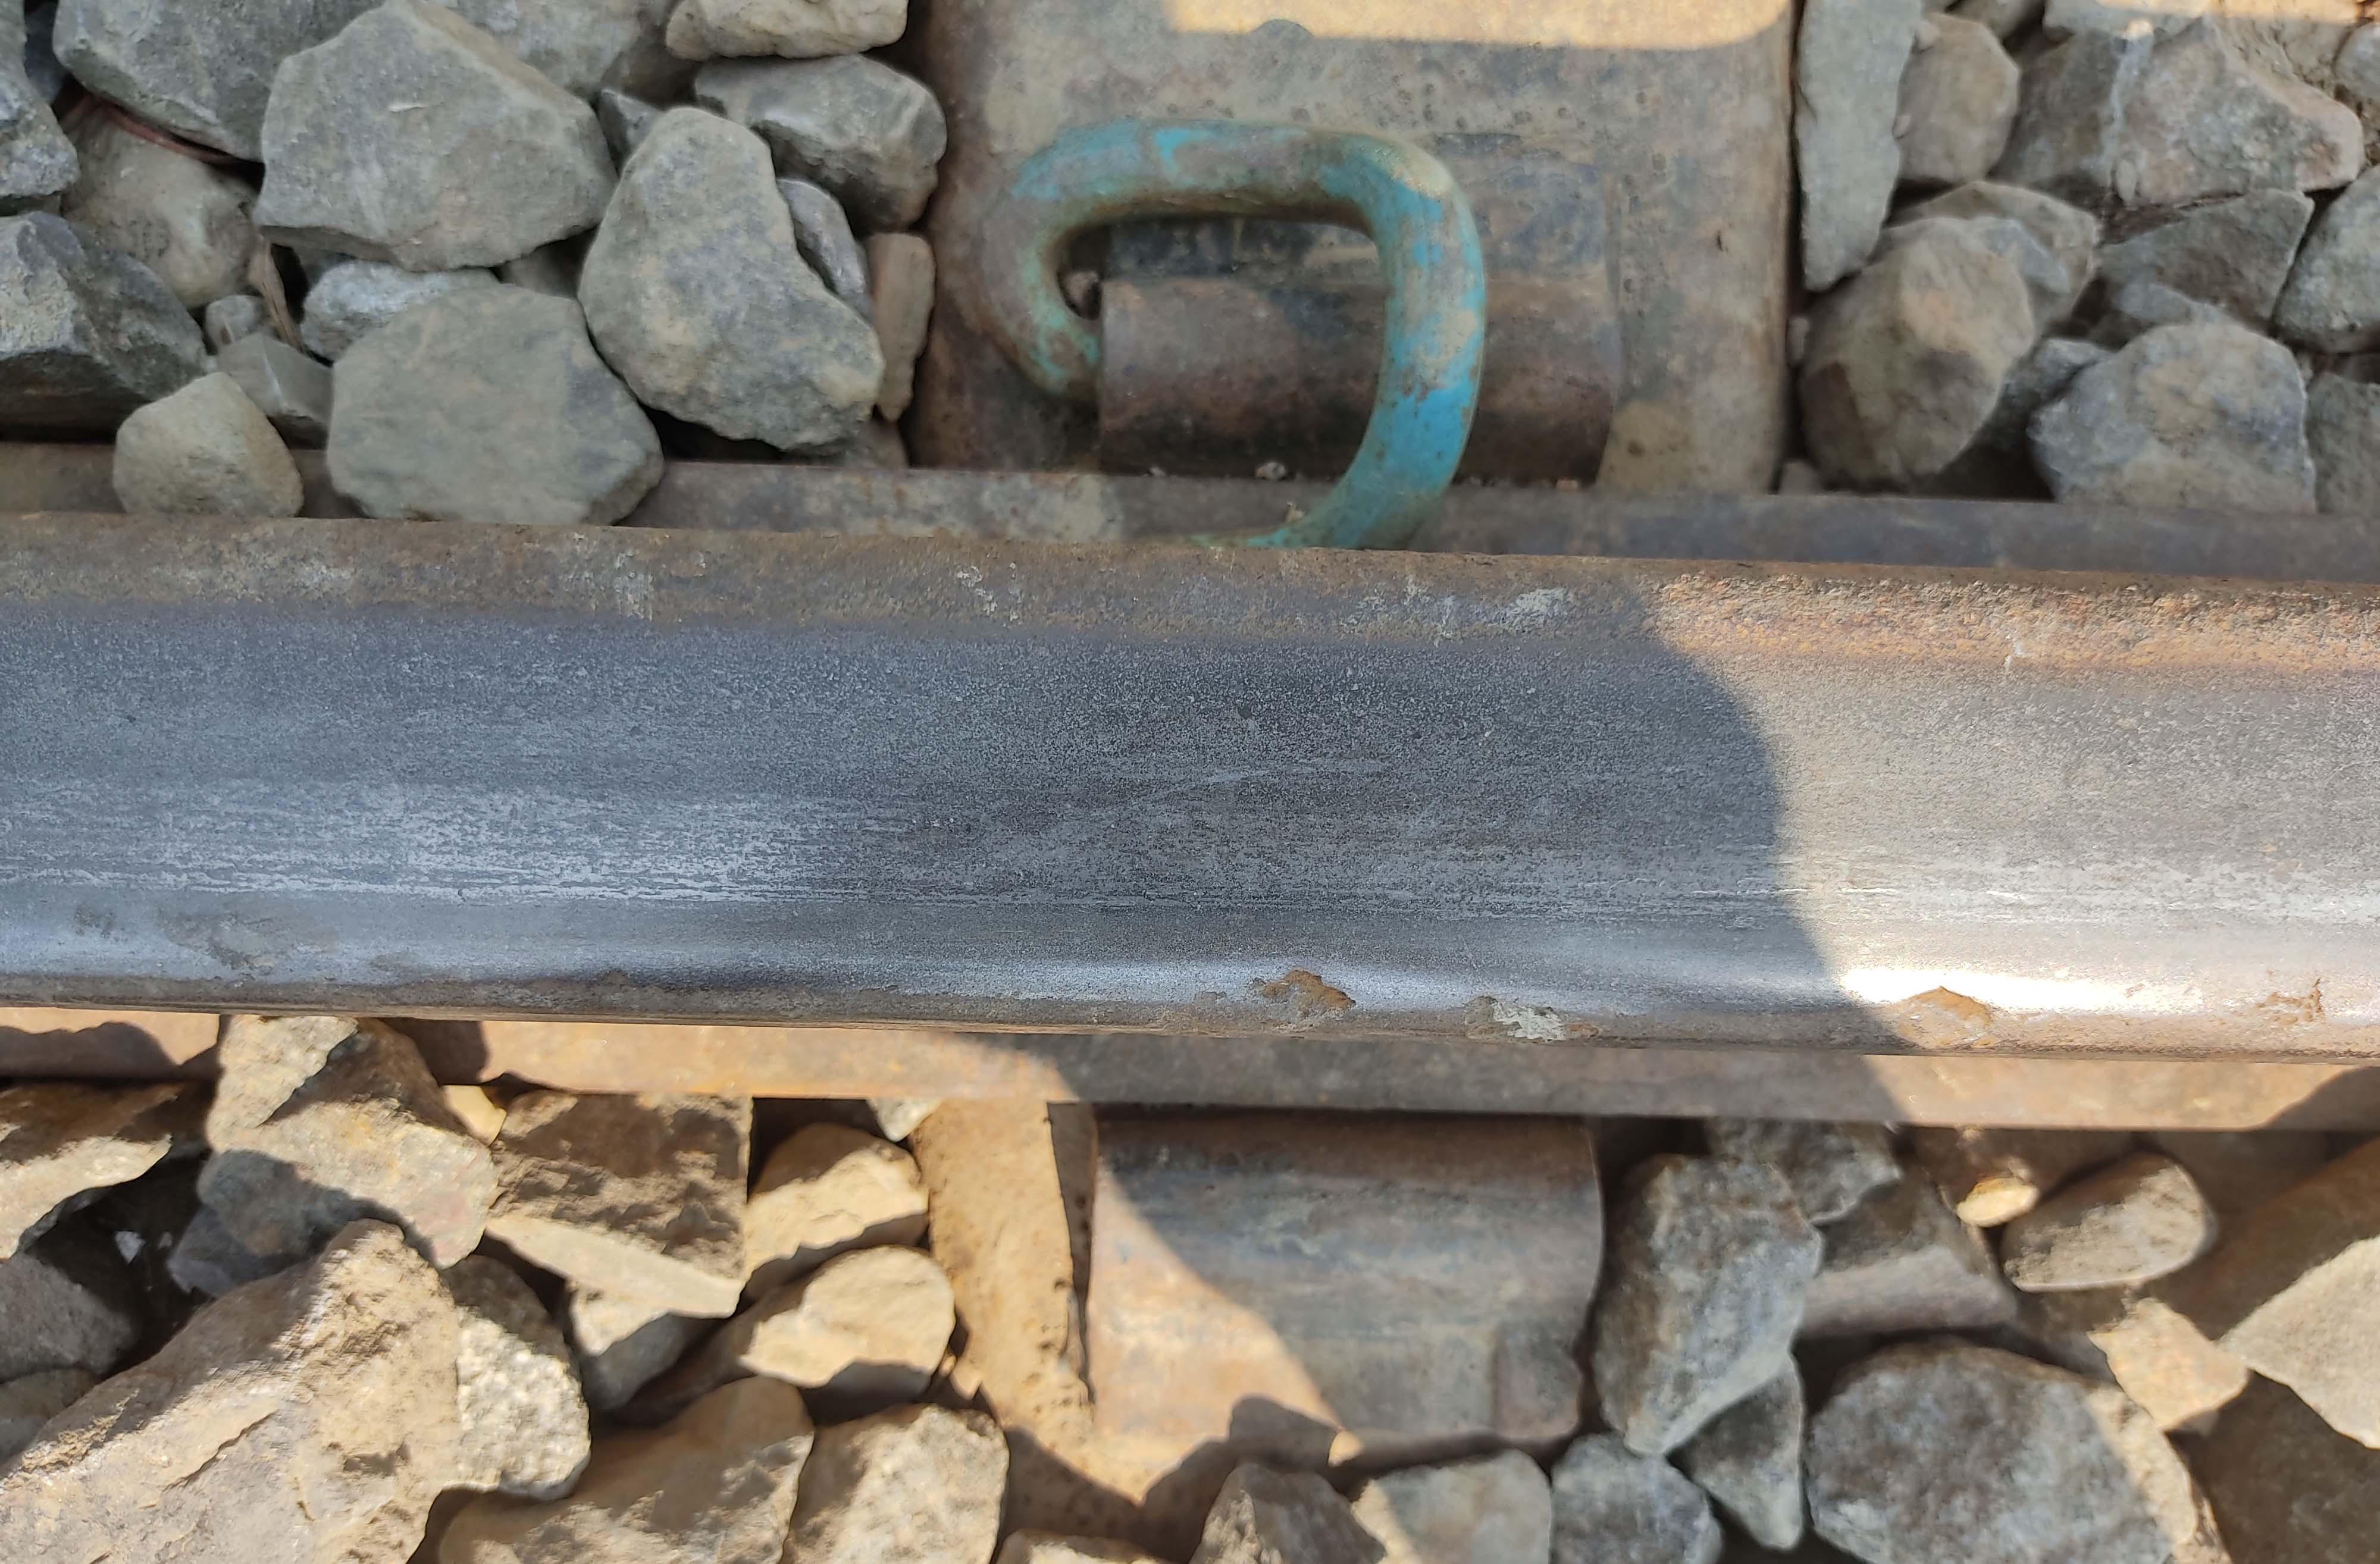error1: (937, 30, 1696, 595), (1047, 1067, 1665, 1478)
